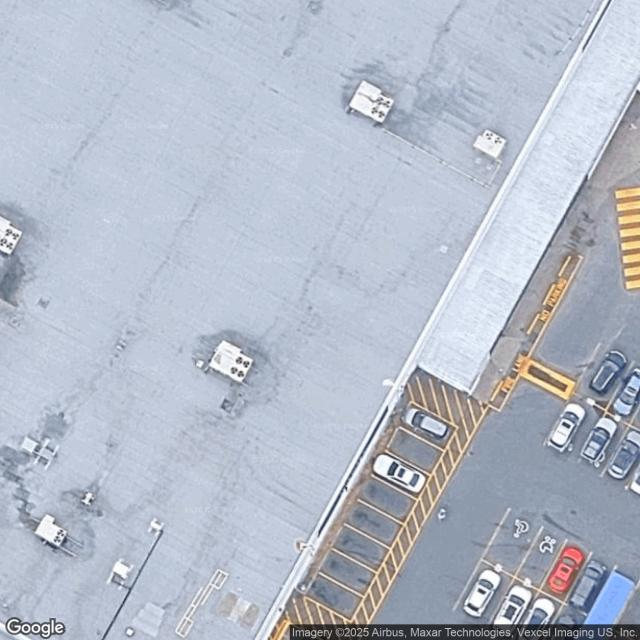car: (368, 449, 431, 499), (539, 541, 590, 602), (457, 561, 507, 619), (487, 580, 536, 638), (577, 411, 624, 470), (544, 399, 590, 455), (400, 403, 457, 447), (566, 556, 609, 612), (584, 346, 630, 397), (514, 593, 560, 639), (605, 427, 639, 484), (610, 364, 639, 419)
lot_boundary: (275, 95, 639, 639)
